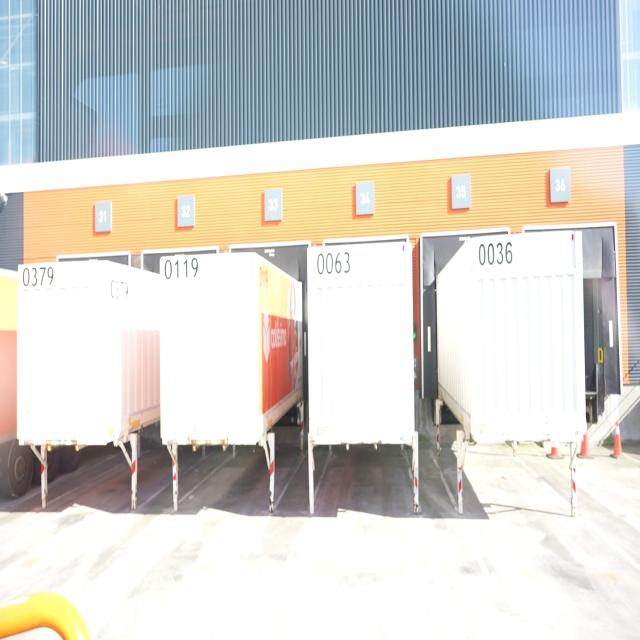Code: (314, 250, 356, 280), (474, 239, 516, 268), (21, 264, 58, 290), (162, 255, 200, 280)
